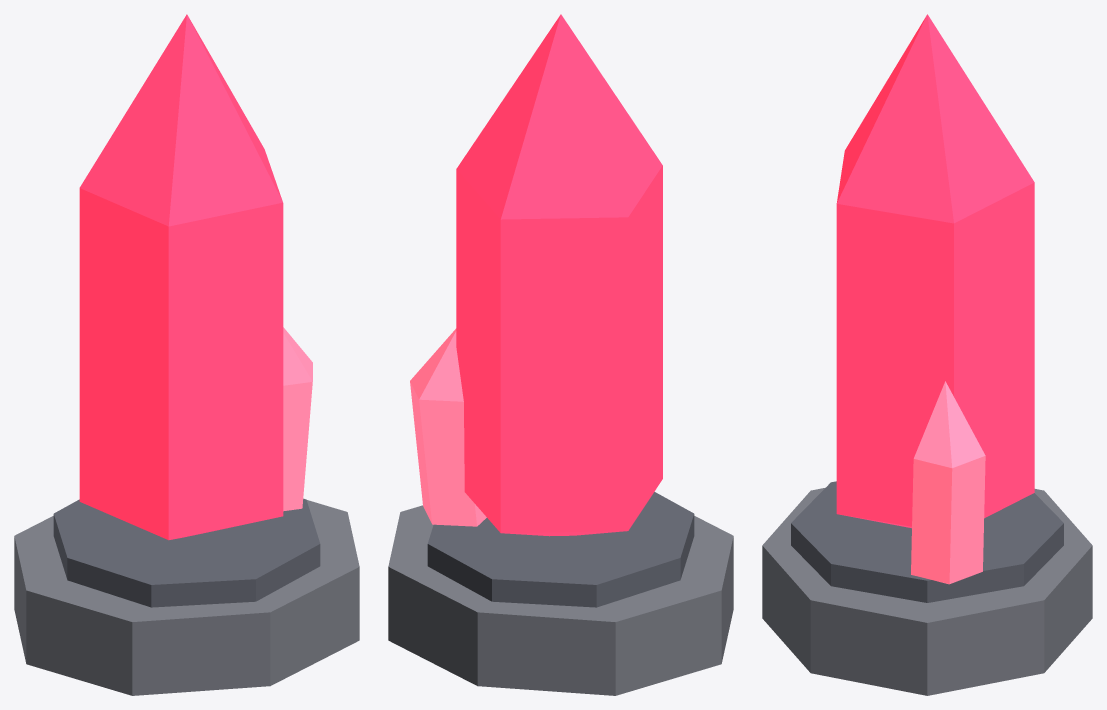
Rendered from LowPoly_MagicStone_A.fbx.
The picture shows the model from 3 angles, left to right: view 1: azimuth 30°, elevation 25°; view 2: azimuth 150°, elevation 25°; view 3: azimuth 270°, elevation 25°; orthographic projection.
Visible parts, largest first — view 1: Crystal, Pedestal, Pedestal_Ring, Crystal_Shard; view 2: Crystal, Pedestal, Pedestal_Ring, Crystal_Shard; view 3: Crystal, Pedestal, Pedestal_Ring, Crystal_Shard.
Part boxes in pixels (box(x1,y1,x2,y2)): Crystal: box(79, 14, 283, 540); Pedestal: box(14, 500, 359, 695); Pedestal_Ring: box(53, 498, 320, 607); Crystal_Shard: box(283, 327, 312, 511); Crystal: box(456, 14, 662, 536); Pedestal: box(388, 505, 733, 695); Pedestal_Ring: box(427, 492, 694, 607); Crystal_Shard: box(410, 328, 486, 526); Crystal: box(836, 14, 1034, 528); Pedestal: box(762, 487, 1092, 695); Pedestal_Ring: box(791, 481, 1063, 602); Crystal_Shard: box(911, 381, 985, 584).
Bounding box in the file's own units: 1.64 × 2.98 × 1.48.
